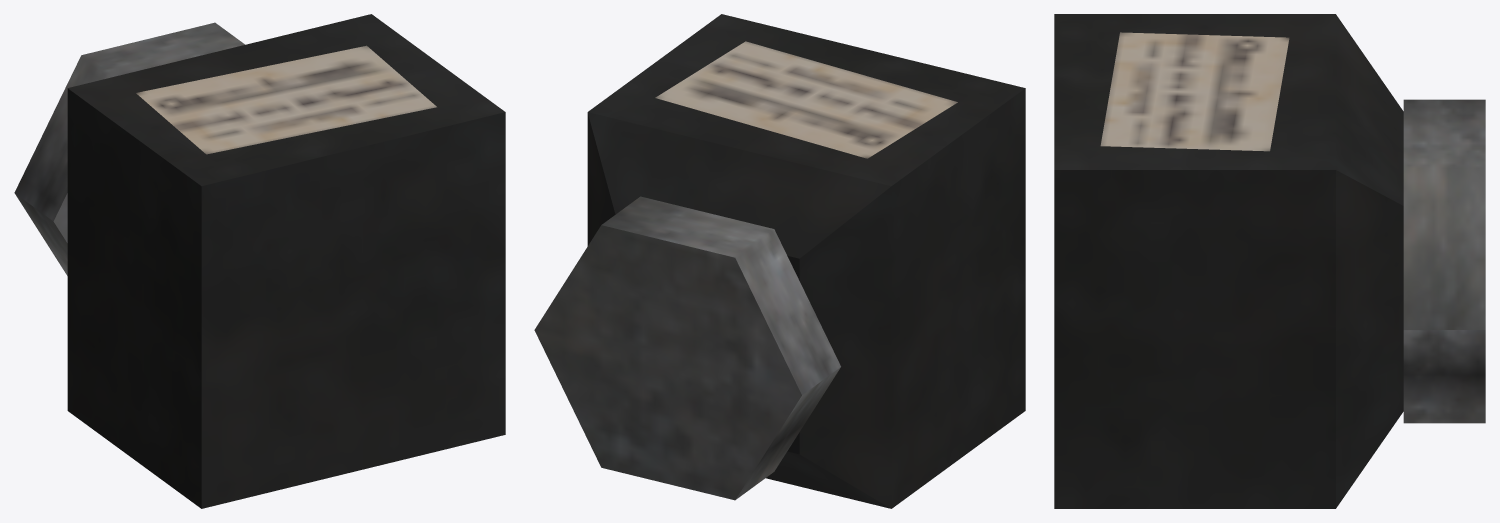
The model's file is Ink_pot_A.fbx.
3 views of the same model, side by side, from view 1: azimuth 30°, elevation 25°; view 2: azimuth 150°, elevation 25°; view 3: azimuth 270°, elevation 25° (orthographic). The views are drawn at different scales.
Parts seen in each view (by area): view 1: Ink_pot_A; view 2: Ink_pot_A; view 3: Ink_pot_A.
Boxes of the visible parts, x1=… form: Ink_pot_A: x1=14, y1=14, x2=505, y2=508; Ink_pot_A: x1=534, y1=14, x2=1025, y2=508; Ink_pot_A: x1=1054, y1=14, x2=1485, y2=508.
Size of the model in its own units: 0.1207 by 0.1225 by 0.1413.
